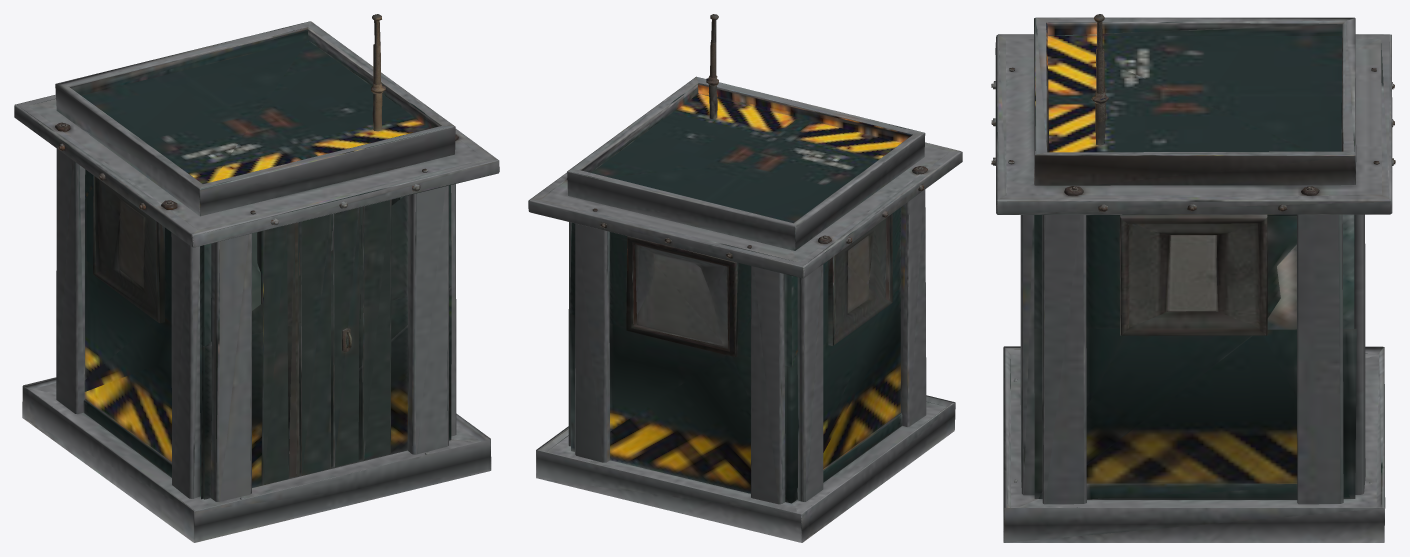
The model's file is post.glb.
The picture shows the model from 3 angles, left to right: view 1: azimuth 30°, elevation 25°; view 2: azimuth 150°, elevation 25°; view 3: azimuth 270°, elevation 25°; orthographic projection. The views are drawn at different scales.
Size of the model in its own units: 1 by 1.33 by 1.
1 material, 1 textured.
